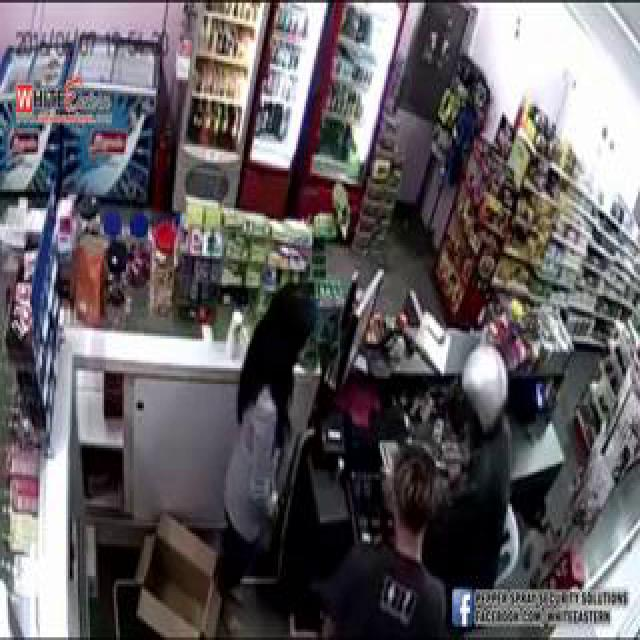robbery: (241, 333, 542, 640)
